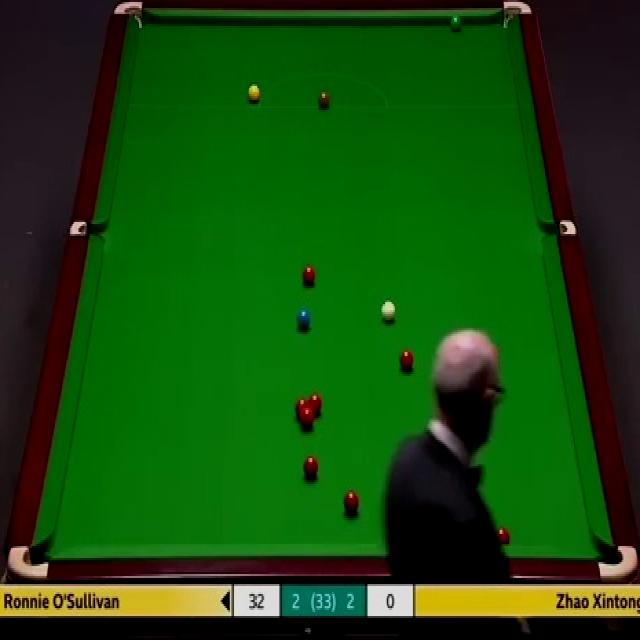blue-ball: (296, 308, 311, 334)
brown-ball: (317, 88, 331, 112)
green-ball: (450, 13, 462, 33)
red-ball: (302, 454, 319, 482), (342, 491, 360, 515), (400, 348, 415, 372), (493, 526, 511, 544), (302, 263, 316, 286), (300, 406, 314, 428), (308, 394, 322, 413), (296, 398, 308, 414)
white-ball: (380, 297, 398, 323)
yellow-ball: (247, 81, 260, 105)
